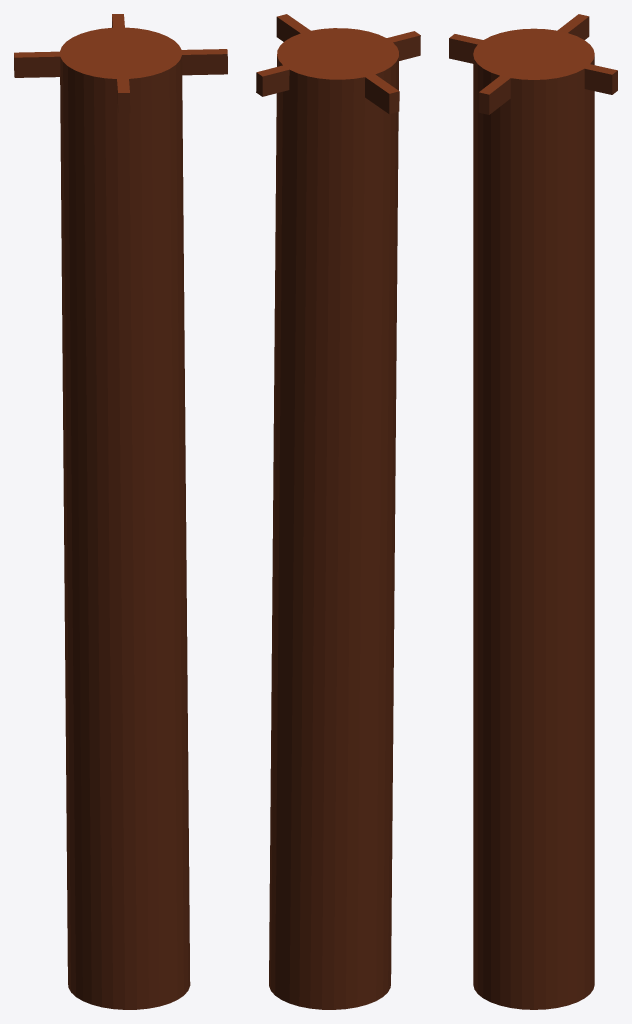
Rendered from PillarPlatform.fbx.
3 renders of one model, left to right at view 1: azimuth 30°, elevation 25°; view 2: azimuth 150°, elevation 25°; view 3: azimuth 270°, elevation 25°, orthographic.
Parts seen in each view (by area): view 1: Cylinder; view 2: Cylinder; view 3: Cylinder.
Part boxes in pixels (<box>): Cylinder: <box>14,14,227,1009</box>; Cylinder: <box>256,14,420,1009</box>; Cylinder: <box>449,14,617,1009</box>.
Size of the model in its own units: 507 by 2690 by 444.
